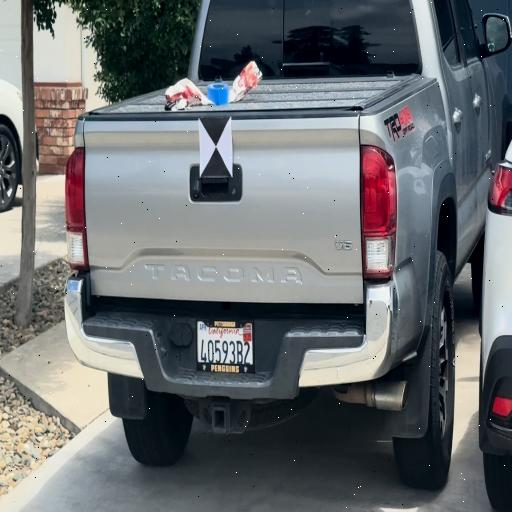target: (199, 117, 233, 177)
